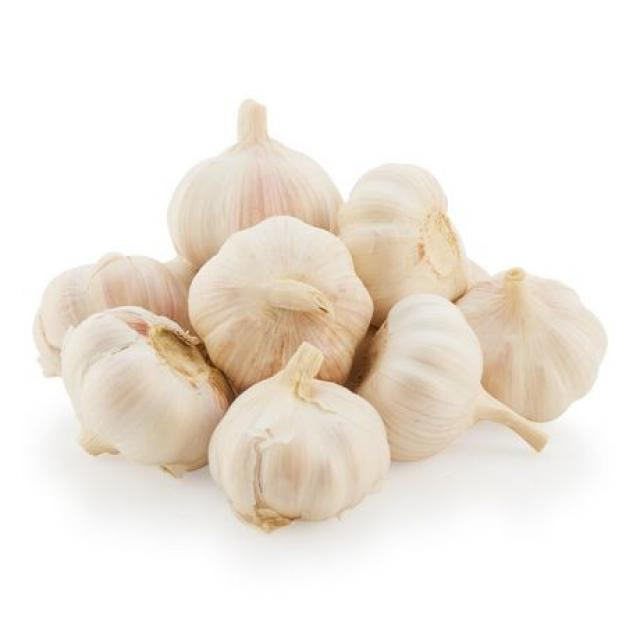garlic: (207, 348, 394, 534), (190, 218, 376, 390), (363, 293, 541, 469), (166, 96, 340, 267), (65, 312, 224, 474), (461, 268, 606, 428), (346, 170, 473, 310)
